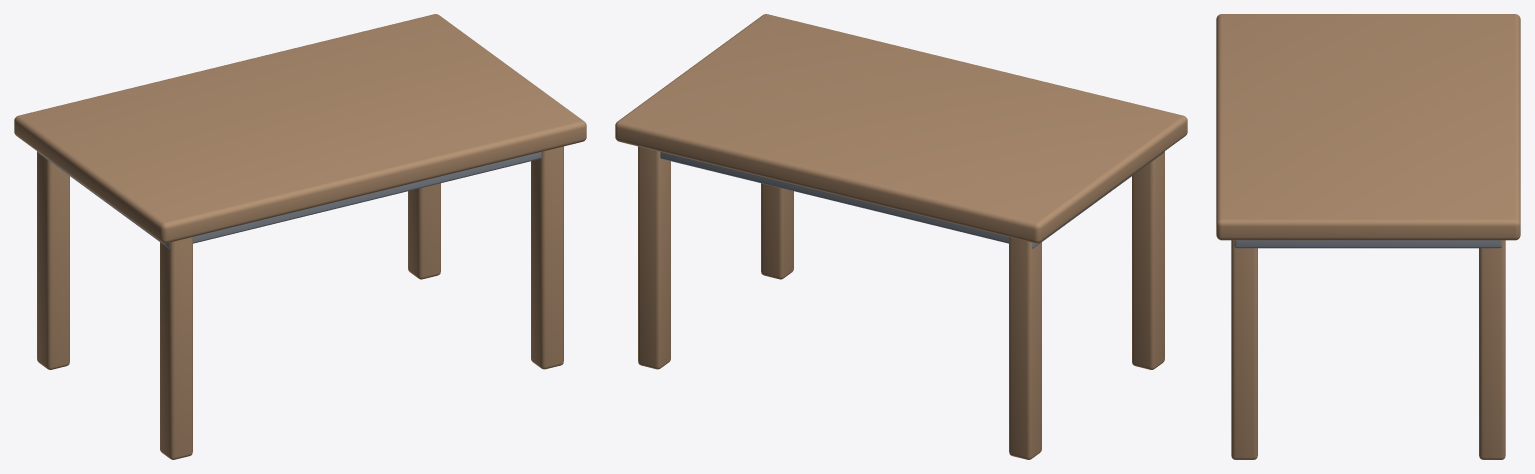
Rendered from SM_SturdyTable.fbx.
The picture shows the model from 3 angles, left to right: view 1: azimuth 30°, elevation 25°; view 2: azimuth 150°, elevation 25°; view 3: azimuth 270°, elevation 25°; orthographic projection.
Visible parts, largest first — view 1: SM_SturdyTable; view 2: SM_SturdyTable; view 3: SM_SturdyTable.
Boxes of the visible parts, x1,y1,x2,y2 form: SM_SturdyTable: (14, 14, 586, 459); SM_SturdyTable: (615, 14, 1187, 459); SM_SturdyTable: (1216, 14, 1520, 459).
Bounding box in the file's own units: 140 × 77.25 × 86.
